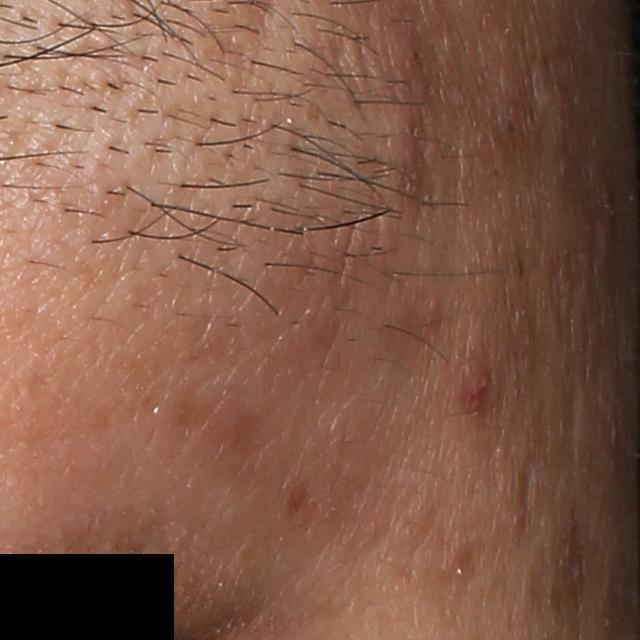papule: (378, 11, 428, 89), (452, 343, 503, 416)
